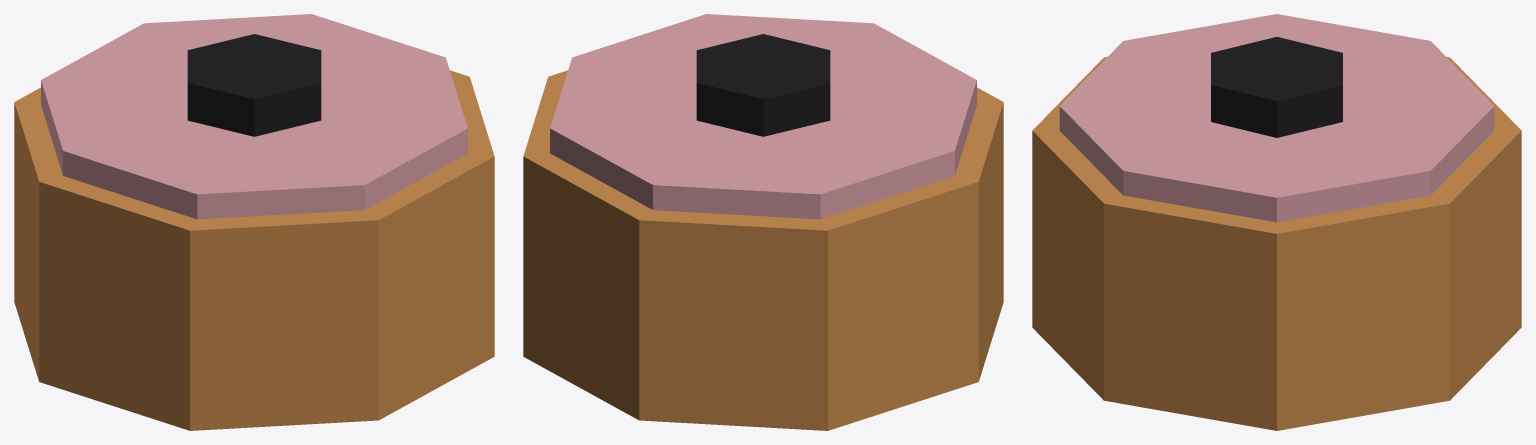
File: FD_Donut_01.glb
3 views of the same model, side by side, from view 1: azimuth 30°, elevation 25°; view 2: azimuth 150°, elevation 25°; view 3: azimuth 270°, elevation 25° (orthographic).
Visible parts, largest first — view 1: FD_Donut_01; view 2: FD_Donut_01; view 3: FD_Donut_01.
Part boxes in pixels (x1,y1,x2,y2): FD_Donut_01: [14, 14, 494, 430]; FD_Donut_01: [523, 14, 1003, 430]; FD_Donut_01: [1032, 14, 1521, 430].
Bounding box in the file's own units: 0.09 × 0.0525 × 0.09.
Materials: 1 (1 with a texture image).
